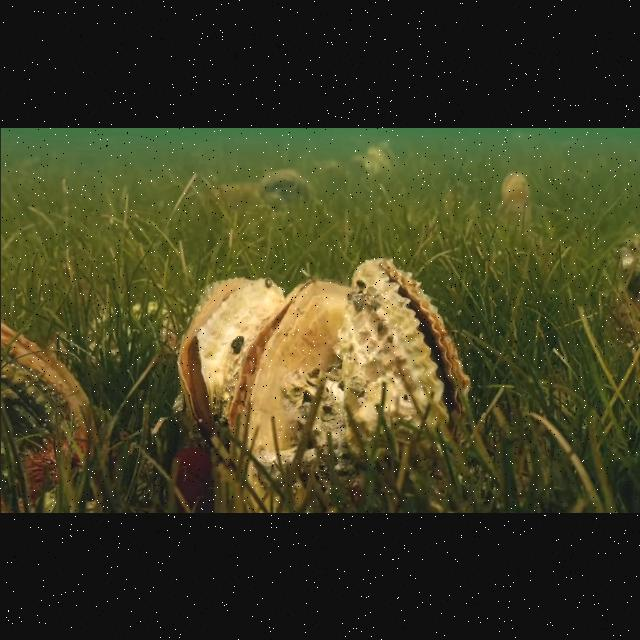Oyster-Closed: (0, 319, 94, 512), (258, 165, 316, 205)
Oyster-Open: (331, 255, 472, 490), (224, 277, 352, 513), (177, 274, 287, 446), (498, 168, 530, 216), (364, 139, 396, 177)
